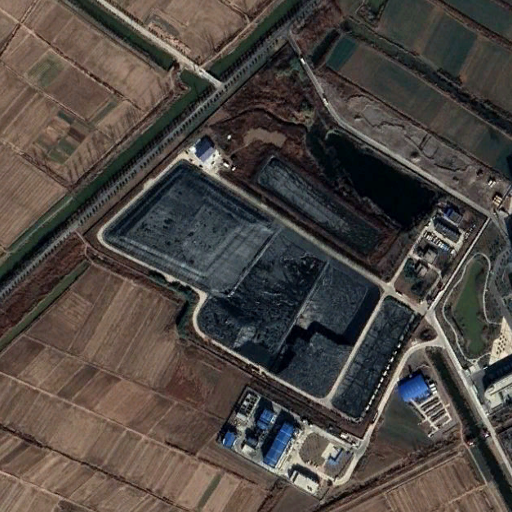lf: (102, 161, 382, 403)
